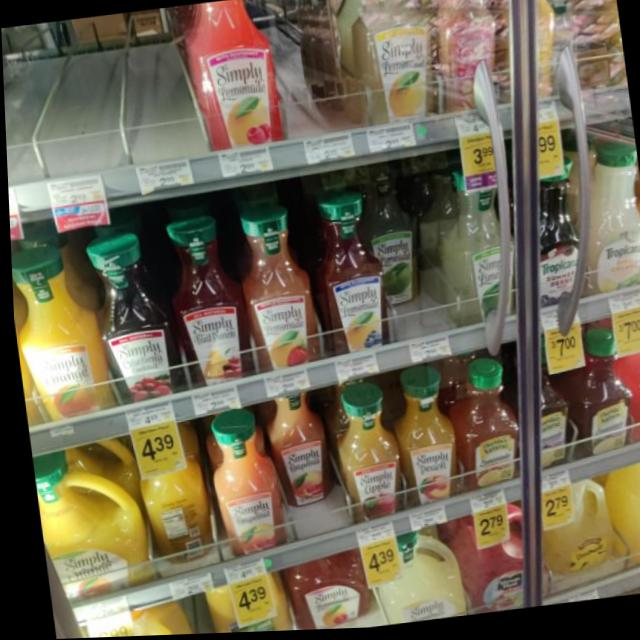Juice: (27, 444, 153, 611), (182, 0, 289, 169), (9, 244, 104, 434), (87, 225, 173, 422), (424, 167, 518, 344), (166, 201, 247, 395), (232, 207, 318, 386), (197, 407, 288, 569), (311, 191, 393, 370), (345, 0, 440, 126), (512, 162, 589, 316), (547, 328, 634, 461), (438, 357, 522, 494), (384, 364, 461, 511), (569, 147, 640, 303), (361, 530, 466, 629), (333, 387, 401, 524), (529, 480, 618, 582), (257, 389, 331, 510), (454, 505, 532, 617), (135, 455, 210, 566), (278, 551, 366, 632), (201, 569, 279, 635), (603, 315, 640, 451), (595, 462, 640, 568)
